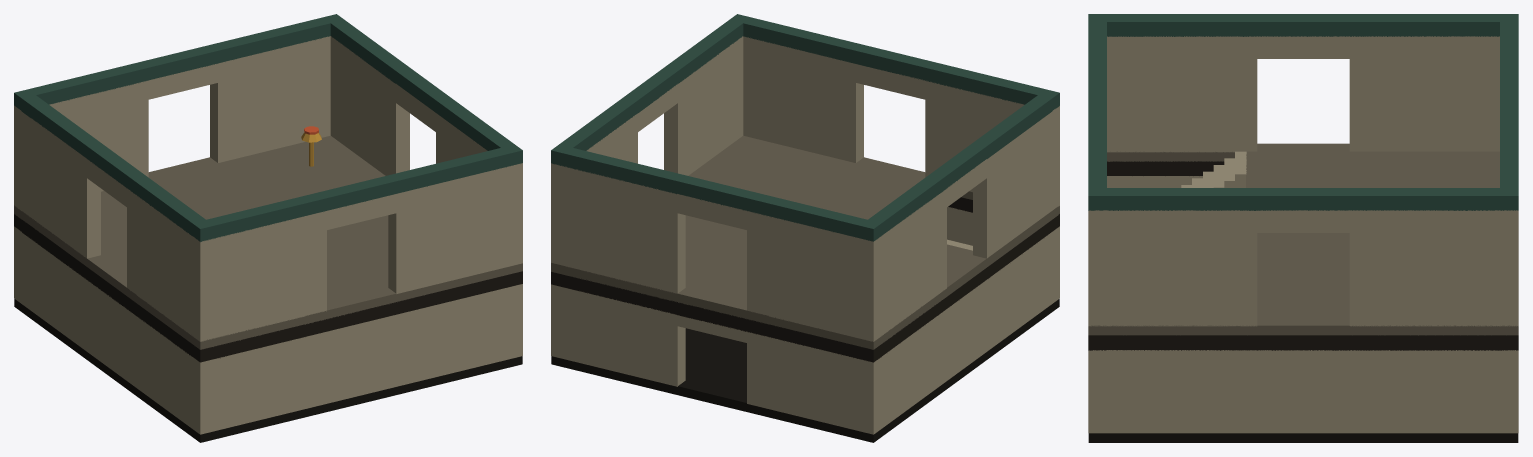
File: LateStairDown.fbx
3 renders of one model, left to right at view 1: azimuth 30°, elevation 25°; view 2: azimuth 150°, elevation 25°; view 3: azimuth 270°, elevation 25°, orthographic. The views are drawn at different scales.
Visible parts, largest first — view 1: LateStairDown; view 2: LateStairDown; view 3: LateStairDown.
Boxes of the visible parts, bbox=[...] form: LateStairDown: bbox=[14, 14, 522, 442]; LateStairDown: bbox=[551, 14, 1059, 442]; LateStairDown: bbox=[1088, 14, 1518, 442].
Bounding box in the file's own units: 1202 × 762 × 1202.
7 materials, 7 textured.
